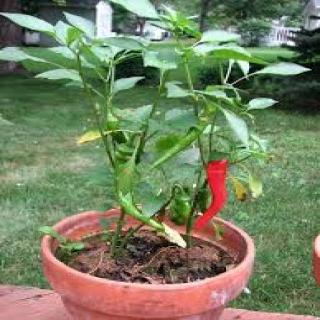Cabai Hijau: (120, 163, 165, 229), (149, 125, 207, 170)
Cabai Merah: (197, 160, 230, 229)
